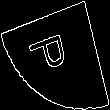P_E: (31, 30, 79, 80)
